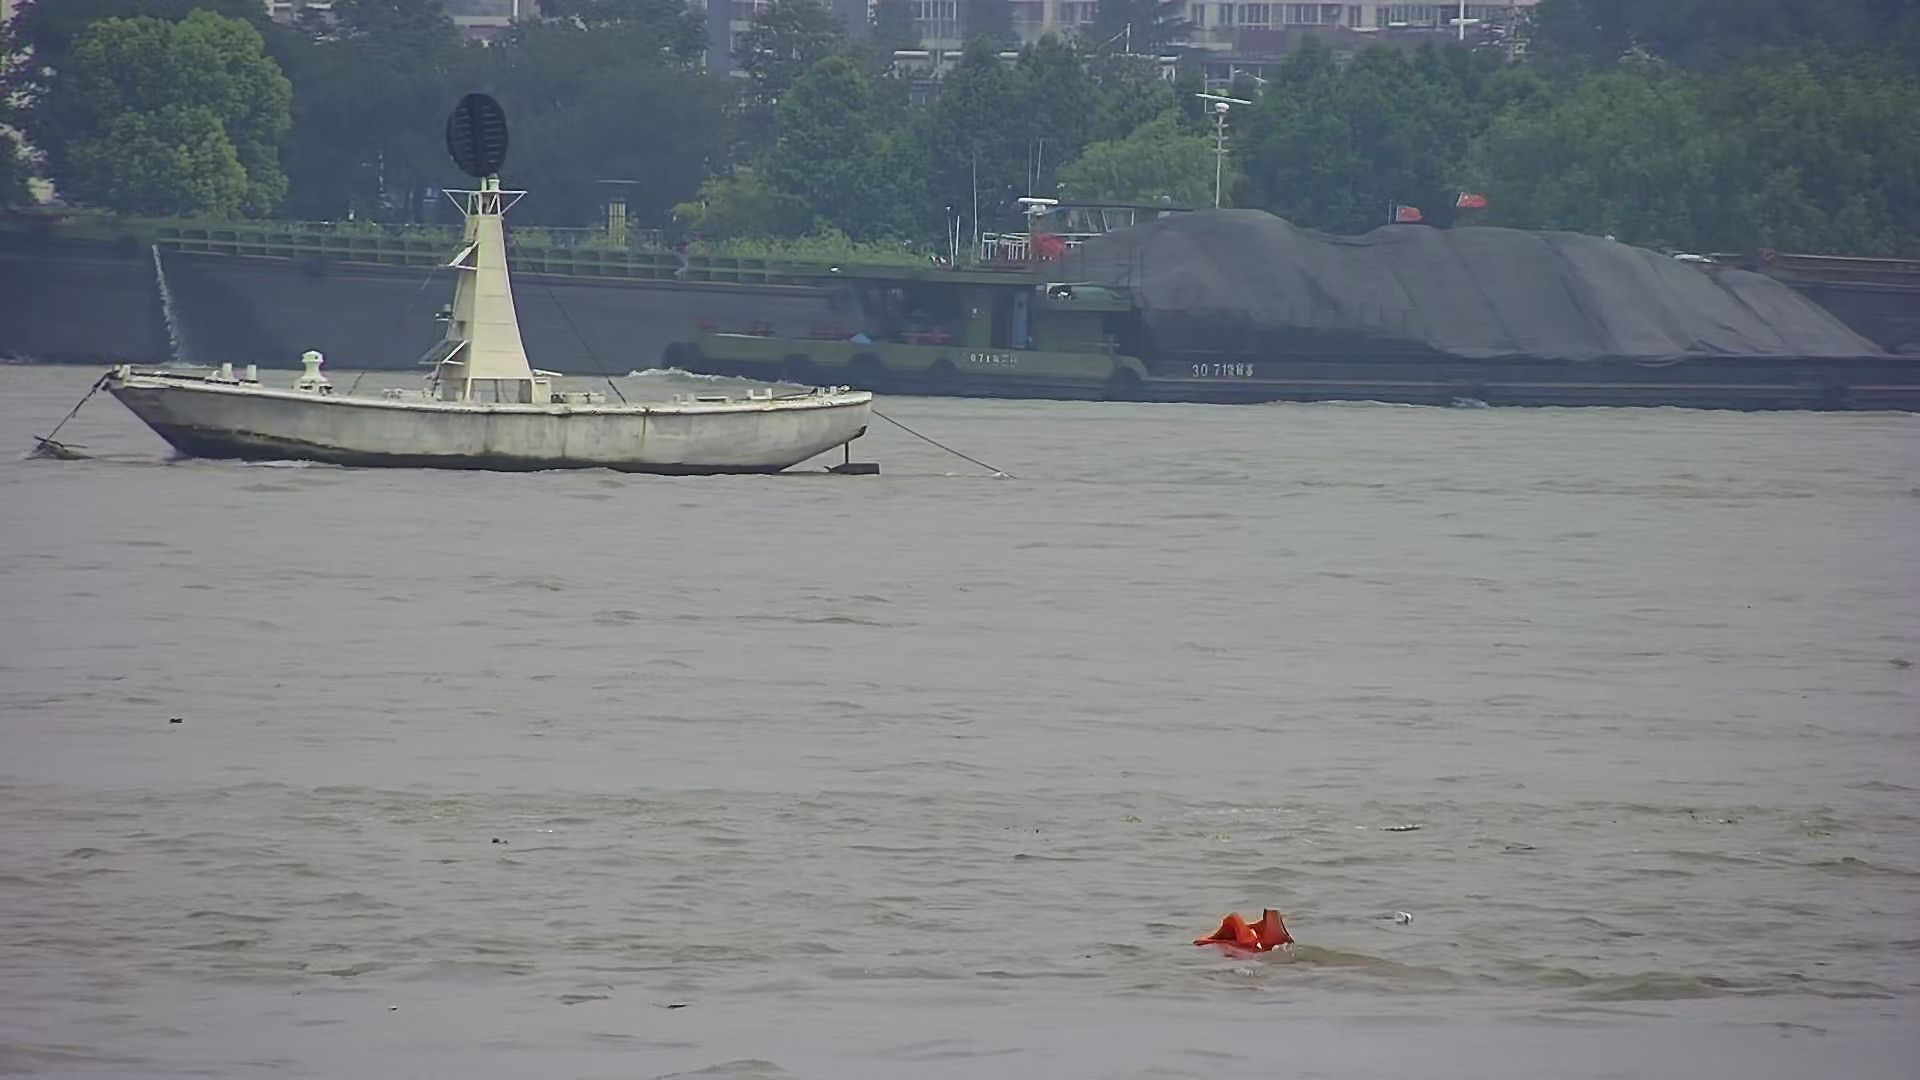boat: (67, 84, 897, 485)
rubbish: (1188, 898, 1323, 972)
ship: (650, 239, 1915, 421)
